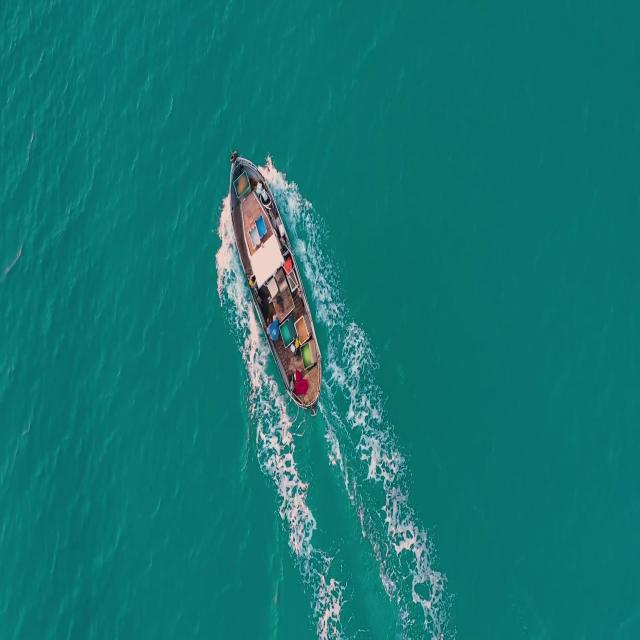ship: (225, 150, 324, 414)
